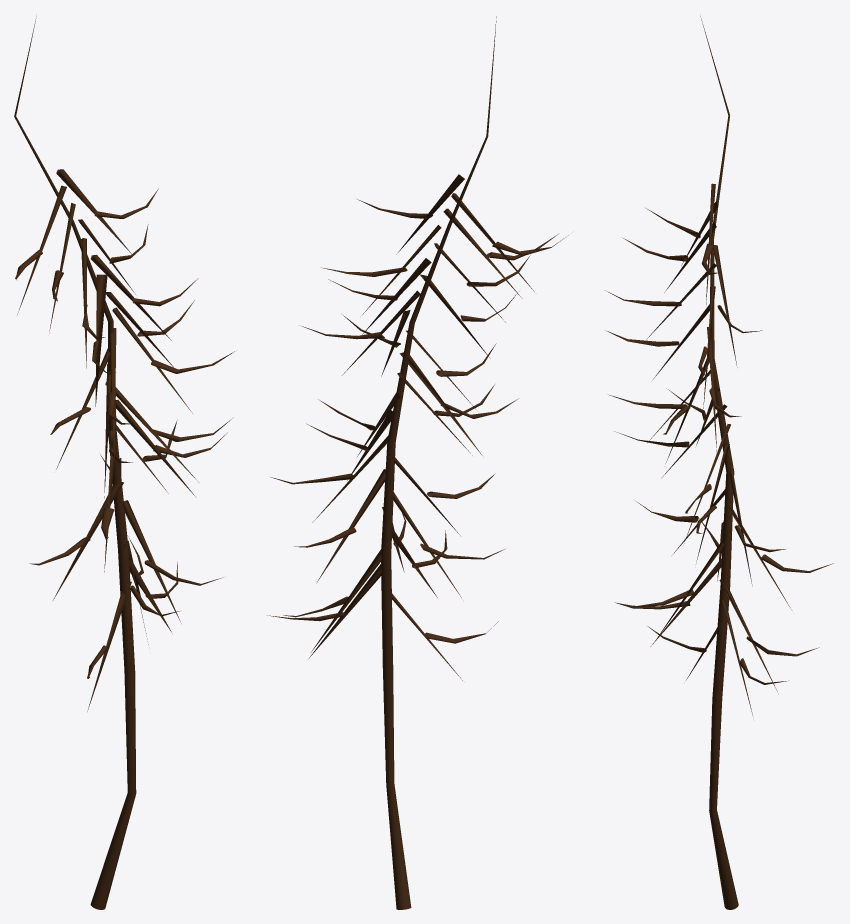
The model's file is koks12mesh.fbx.
3 renders of one model, left to right at view 1: azimuth 30°, elevation 25°; view 2: azimuth 150°, elevation 25°; view 3: azimuth 270°, elevation 25°, orthographic. The views are drawn at different scales.
Visible parts, largest first — view 1: Koks4.001; view 2: Koks4.001; view 3: Koks4.001.
Part boxes in pixels (x1=…): Koks4.001: x1=14, y1=16, x2=234, y2=909; Koks4.001: x1=267, y1=16, x2=568, y2=909; Koks4.001: x1=605, y1=16, x2=833, y2=909.
Bounding box in the file's own units: 7.19 × 25.91 × 6.36.
